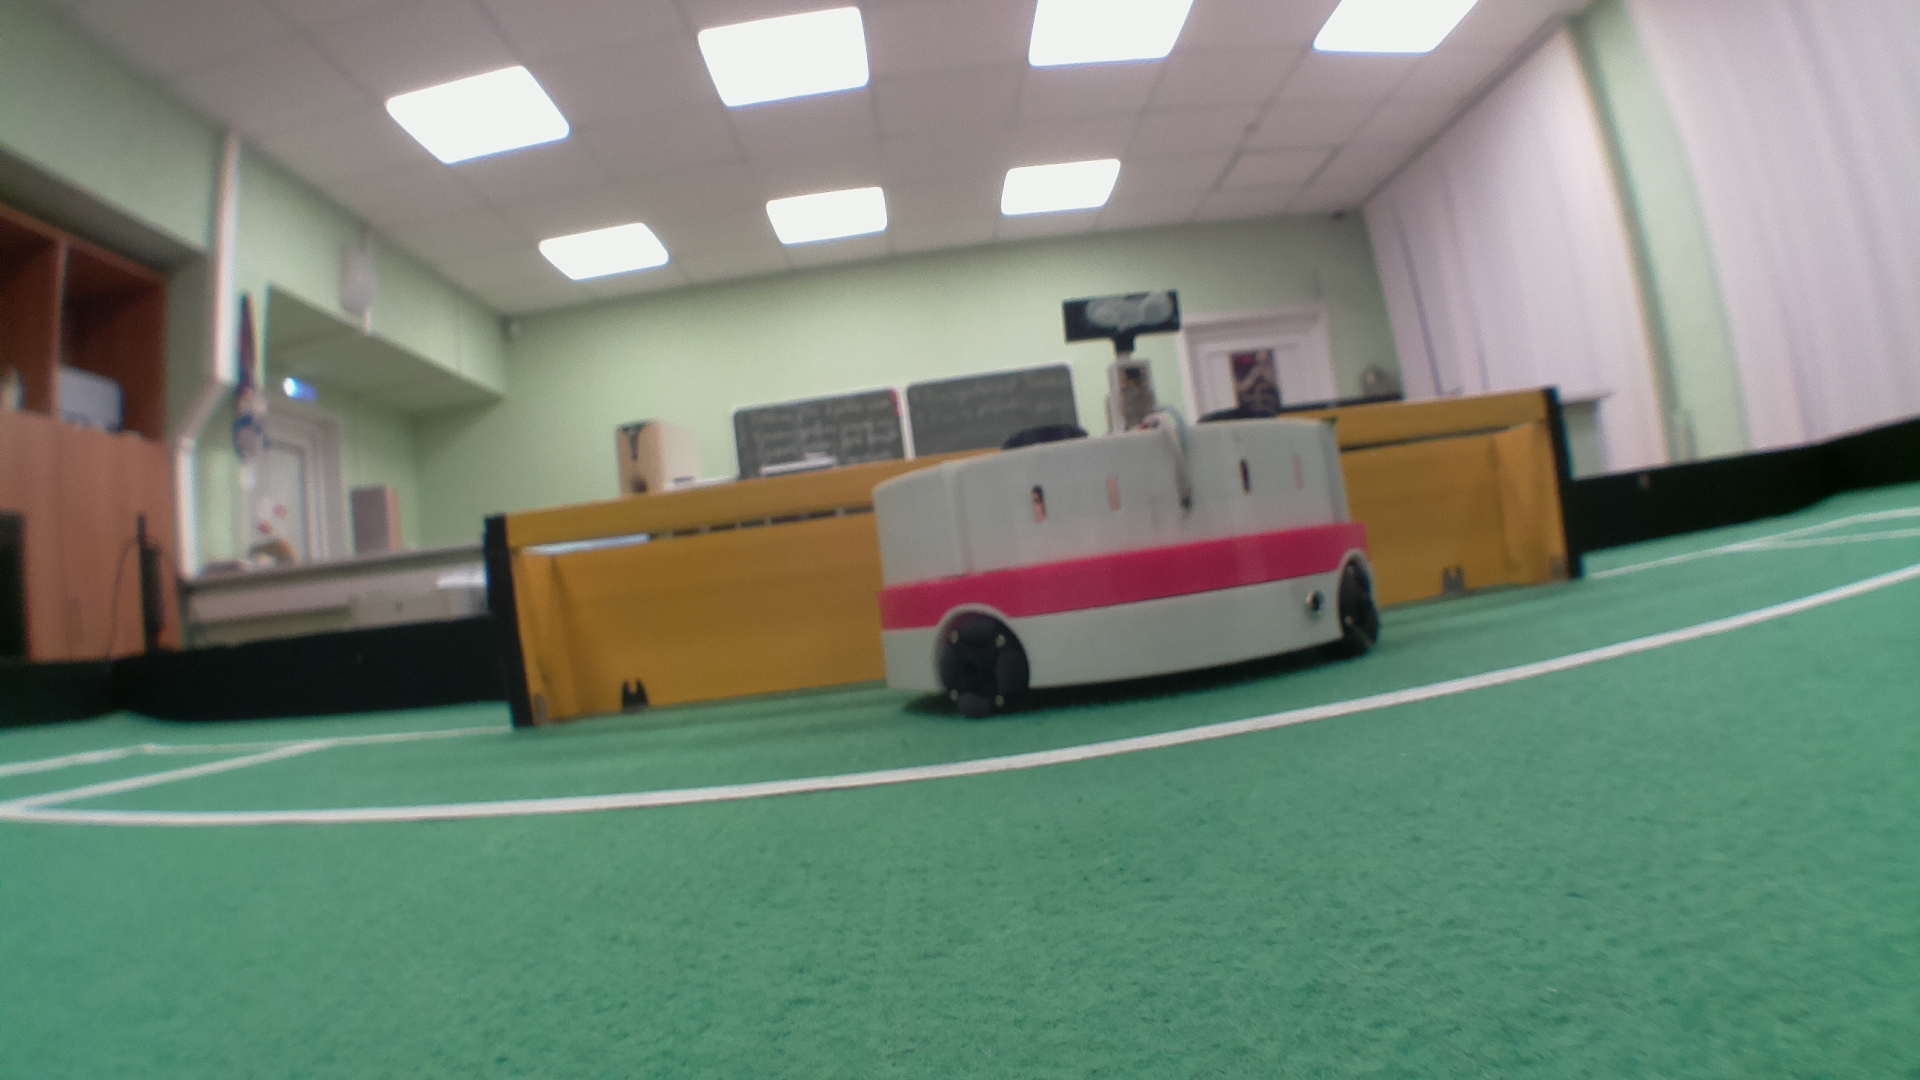YellowGoal: (502, 397, 1586, 732)
